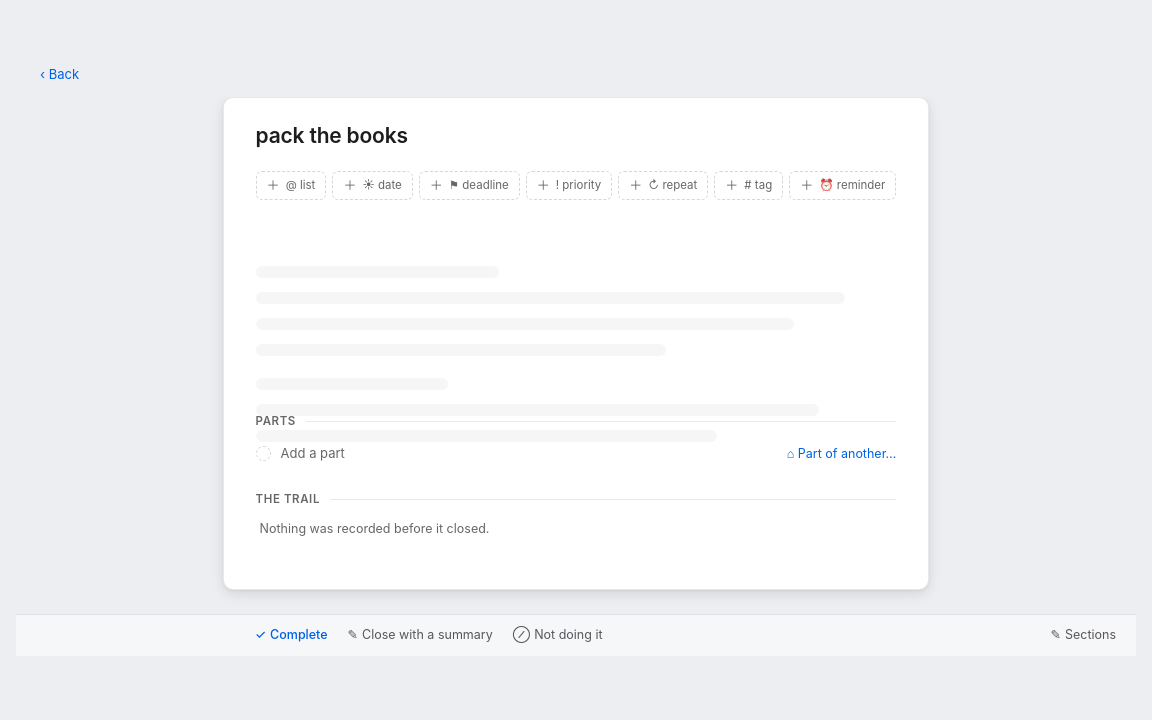
Test case: parts in plain sight › says so when no open task goes by that name
Click the button "⌂ Part of another…" at [842, 454], box [787, 444, 896, 465]
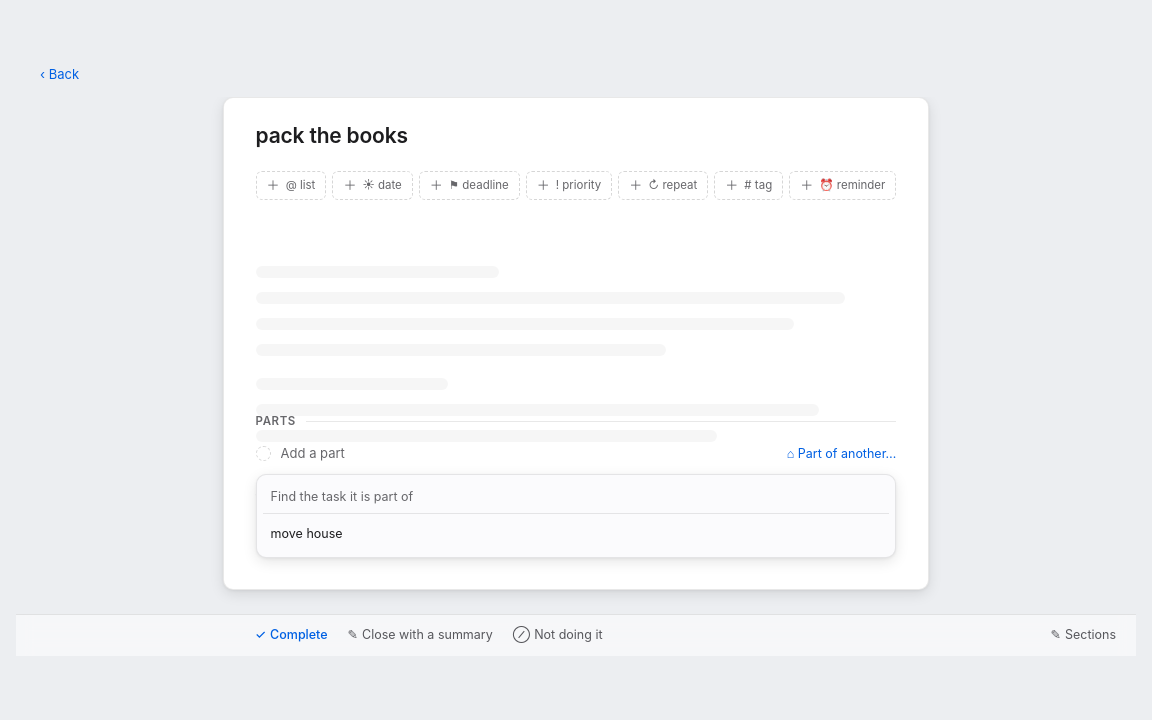
Type "garden" into the field labelled "Find the task it is part of" at [576, 498], box [263, 481, 889, 514]
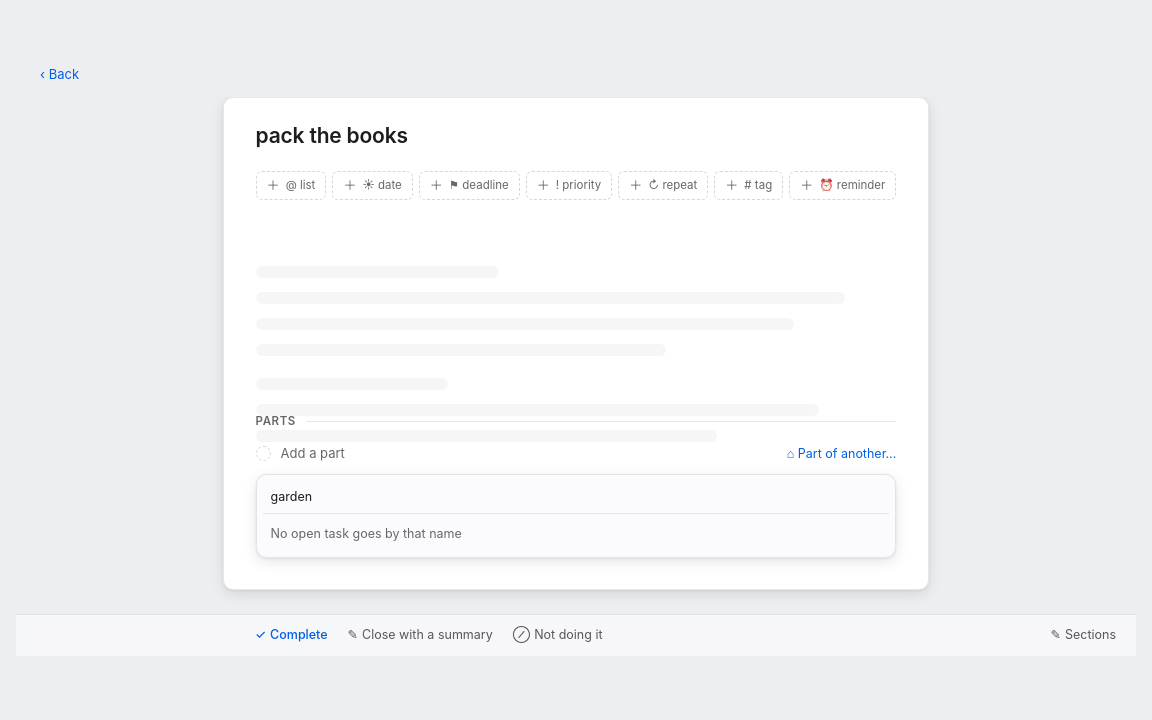
Now the text "No open task goes by that name" is shown, box [271, 526, 462, 541]
